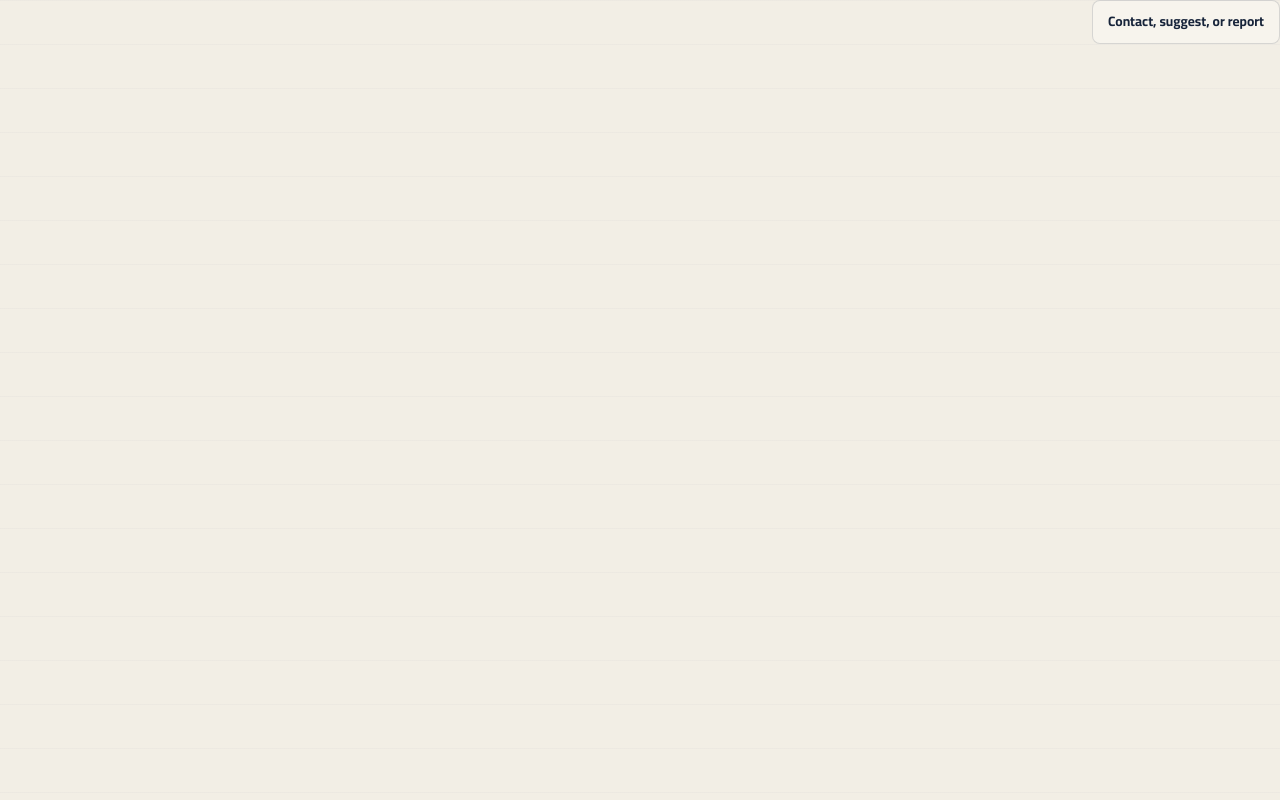
Test: FeedbackDialog › submits a country-specific report and shows its reference id
This screenshot has width=1280, height=800.
Click the button "Contact, suggest, or report" at [1186, 22], box [1092,0,1279,44]
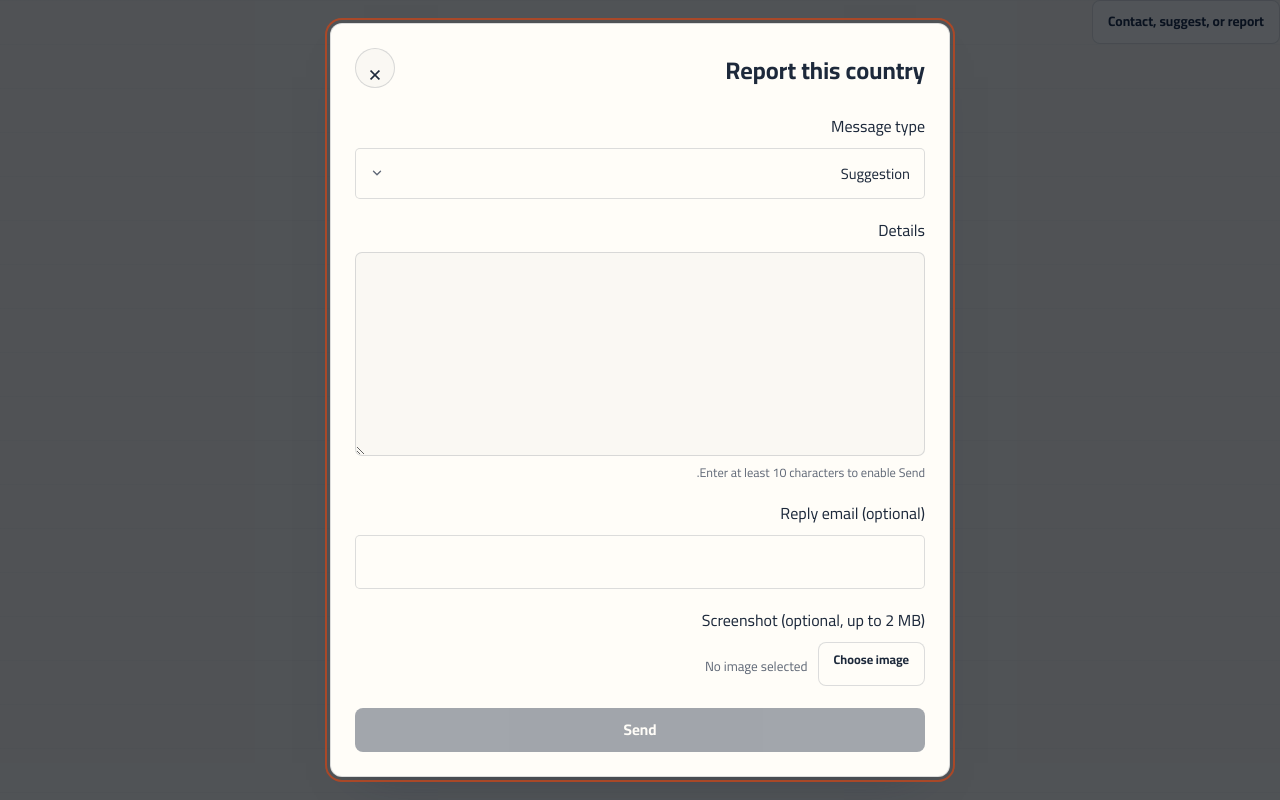
Type "This country image is incorrect." into the text box labelled "Details" at [640, 354], box [355,252,925,456]
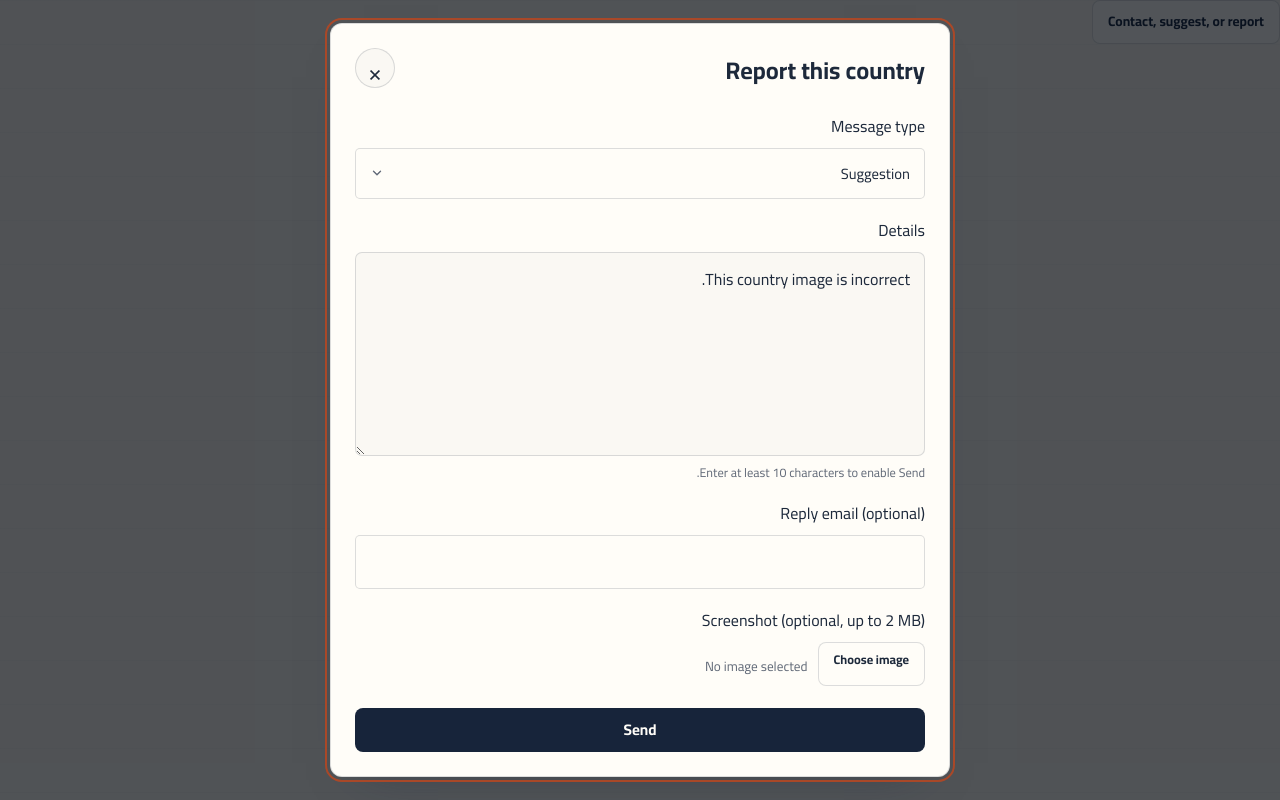
Click the button "Send" at [640, 730], box [355,708,925,752]
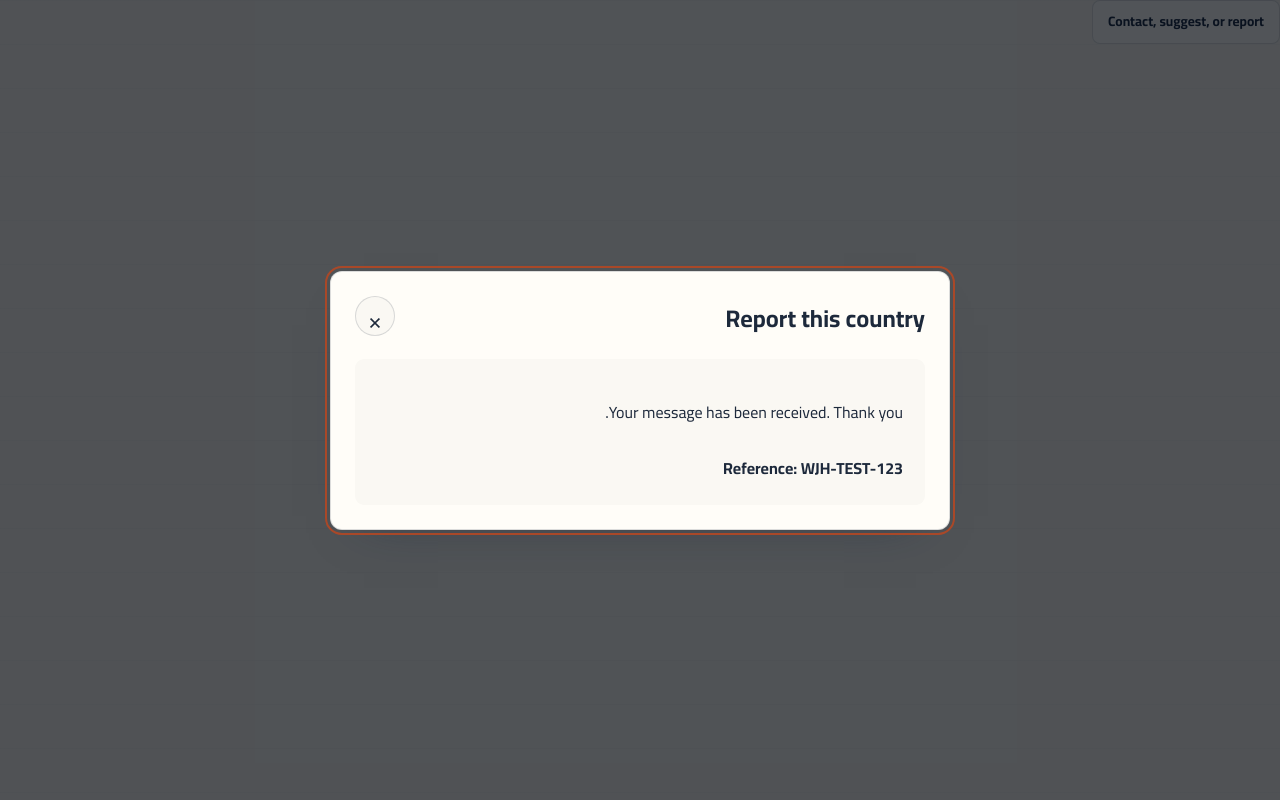
expect the text "Reference: WJH-TEST-123" is shown: met, box [723,452,903,482]
